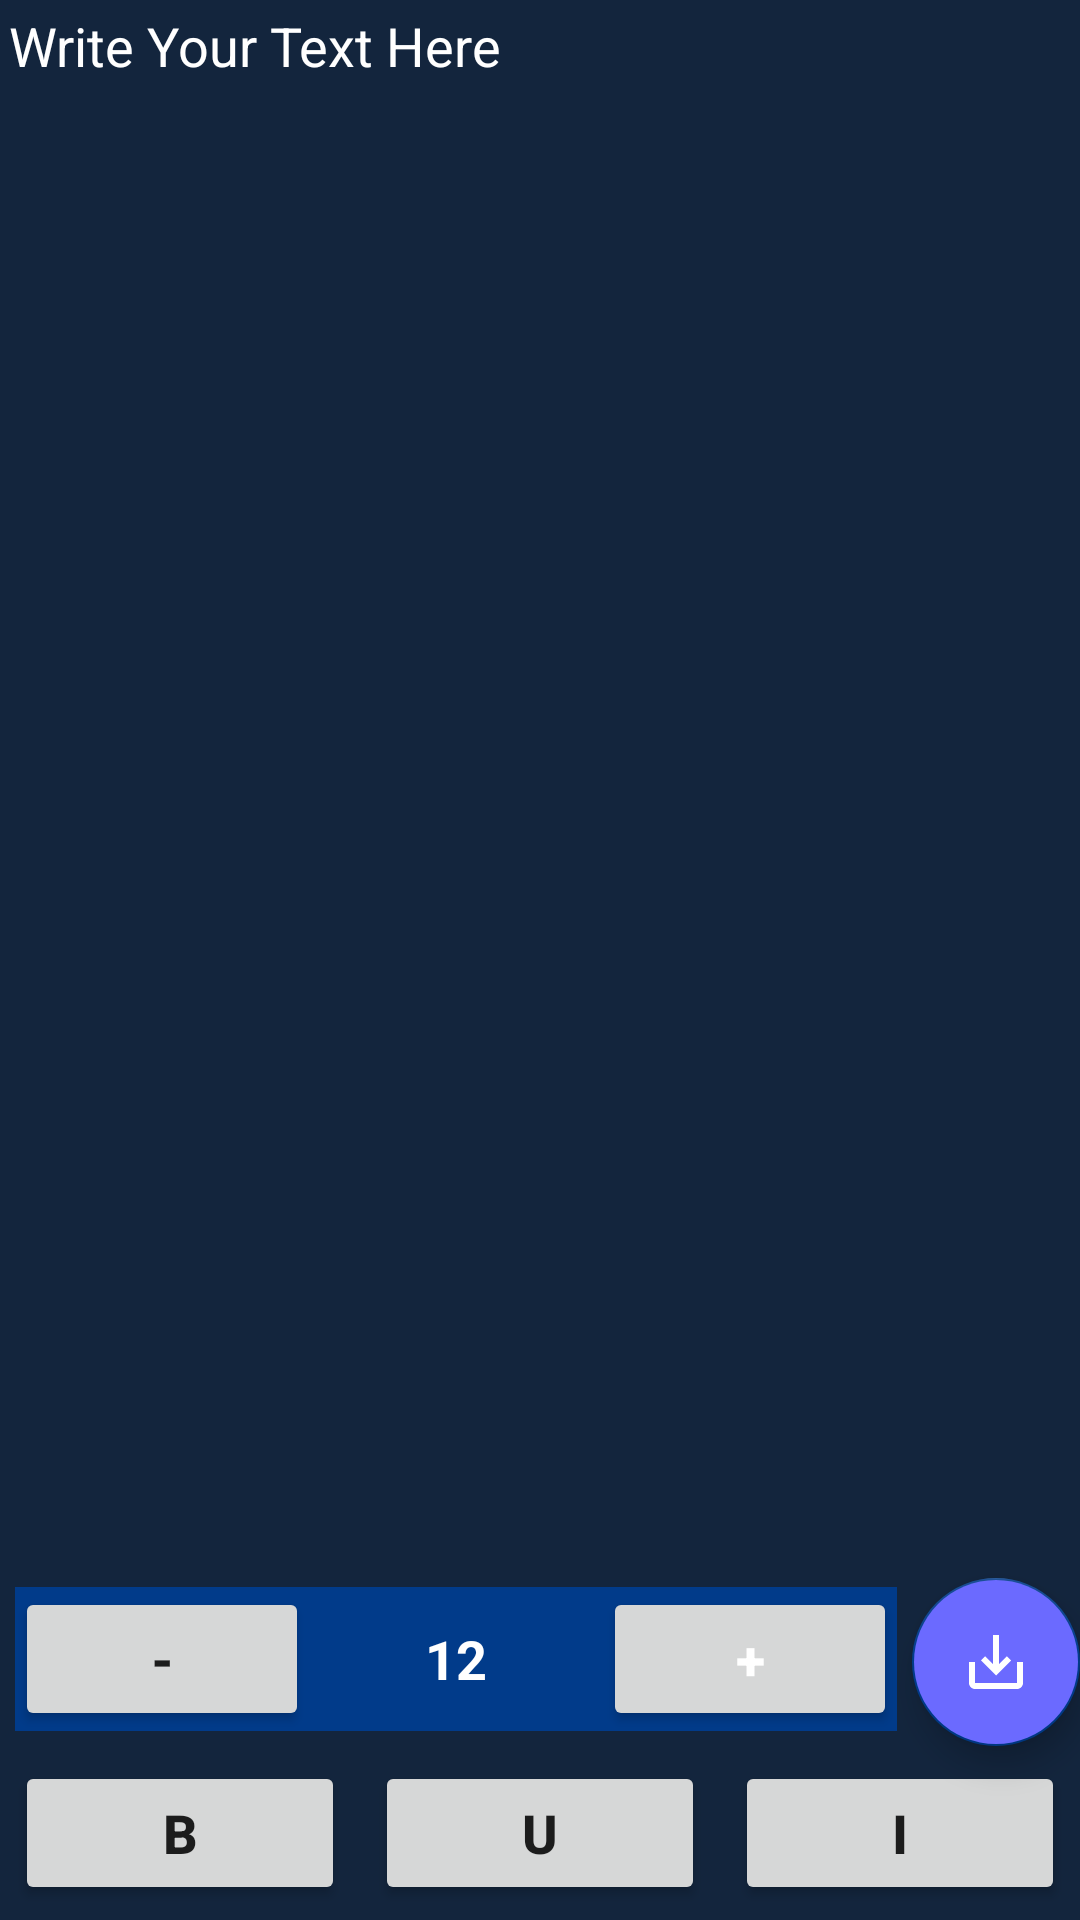

Screen size 1080 × 1920. Icon name, then its box in pixels as [x1,y1,x2,y2]:
save: [912,1578,1080,1746]
